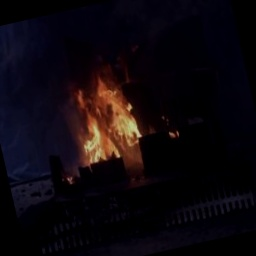fire: (50, 50, 172, 177)
